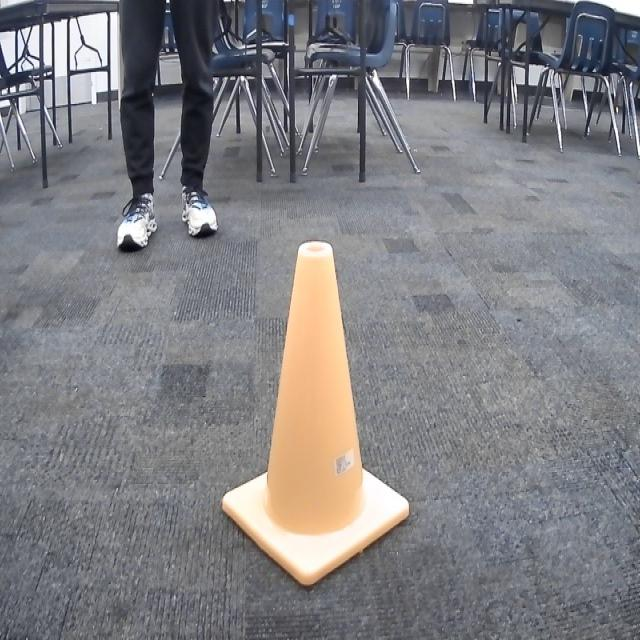cone: (219, 232, 413, 594)
